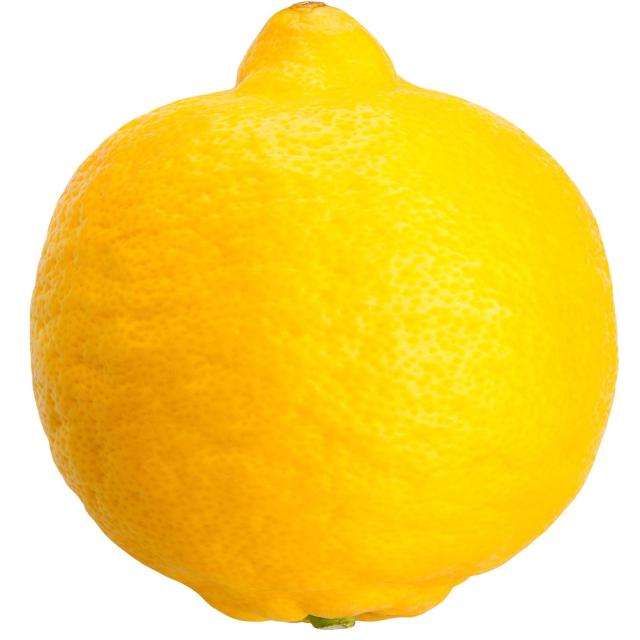lemon: (13, 0, 640, 640)
